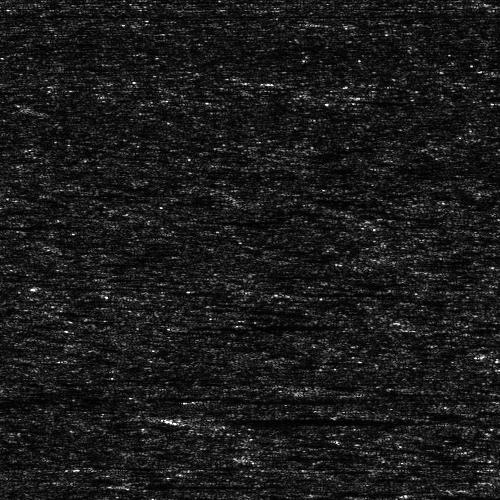rock: (150, 415, 243, 428), (220, 287, 335, 296), (128, 320, 233, 329), (170, 397, 223, 402), (105, 482, 158, 485)
shadow: (197, 415, 359, 428), (181, 320, 344, 329), (278, 287, 392, 296), (197, 397, 359, 402), (132, 482, 289, 485), (0, 232, 17, 237)
